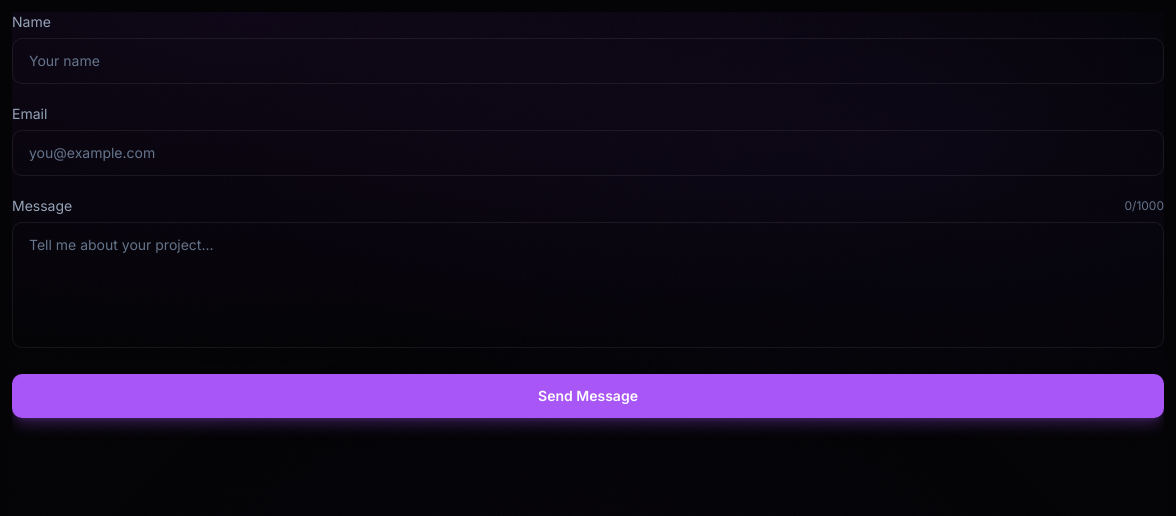
Test: ContactForm › shows validation error when name is empty on submit
The width and height of the screenshot is (1176, 516).
Click the button "Send Message".
click(588, 396)  # box [12,374,1164,418]
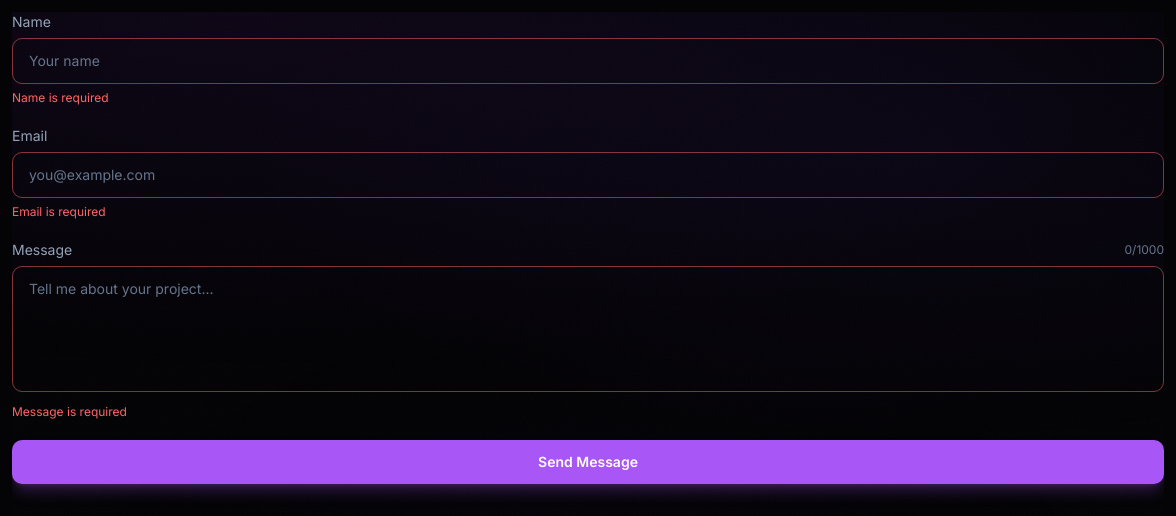
Expected: the text with test id "name-error" reads "Name is required", [12,90,109,105]
